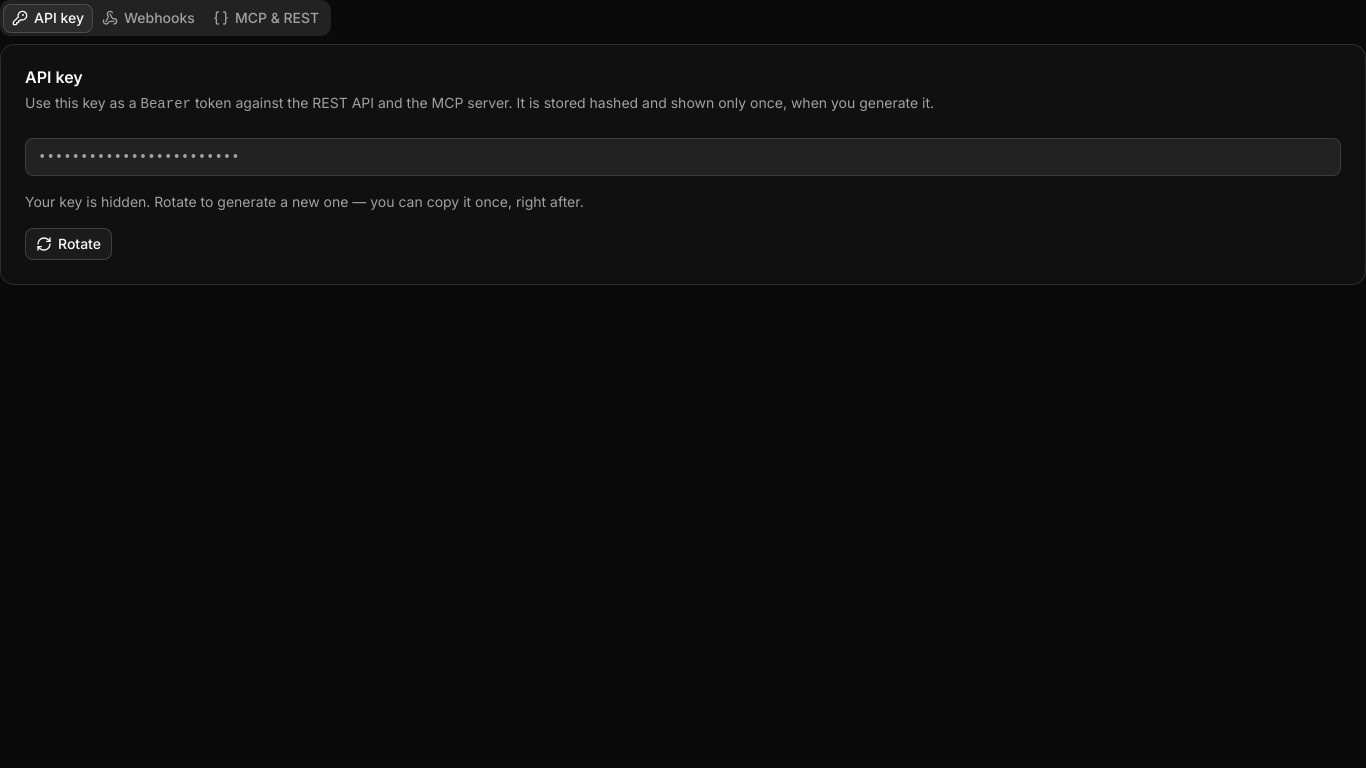
Scenario: Developer tabs › switches to the MCP & REST section on tab change
// Radix tabs activate on pointer-down, not a bare click.
Press the mouse on the tab "MCP & REST" at (266, 18), box 204,4 -> 328,32
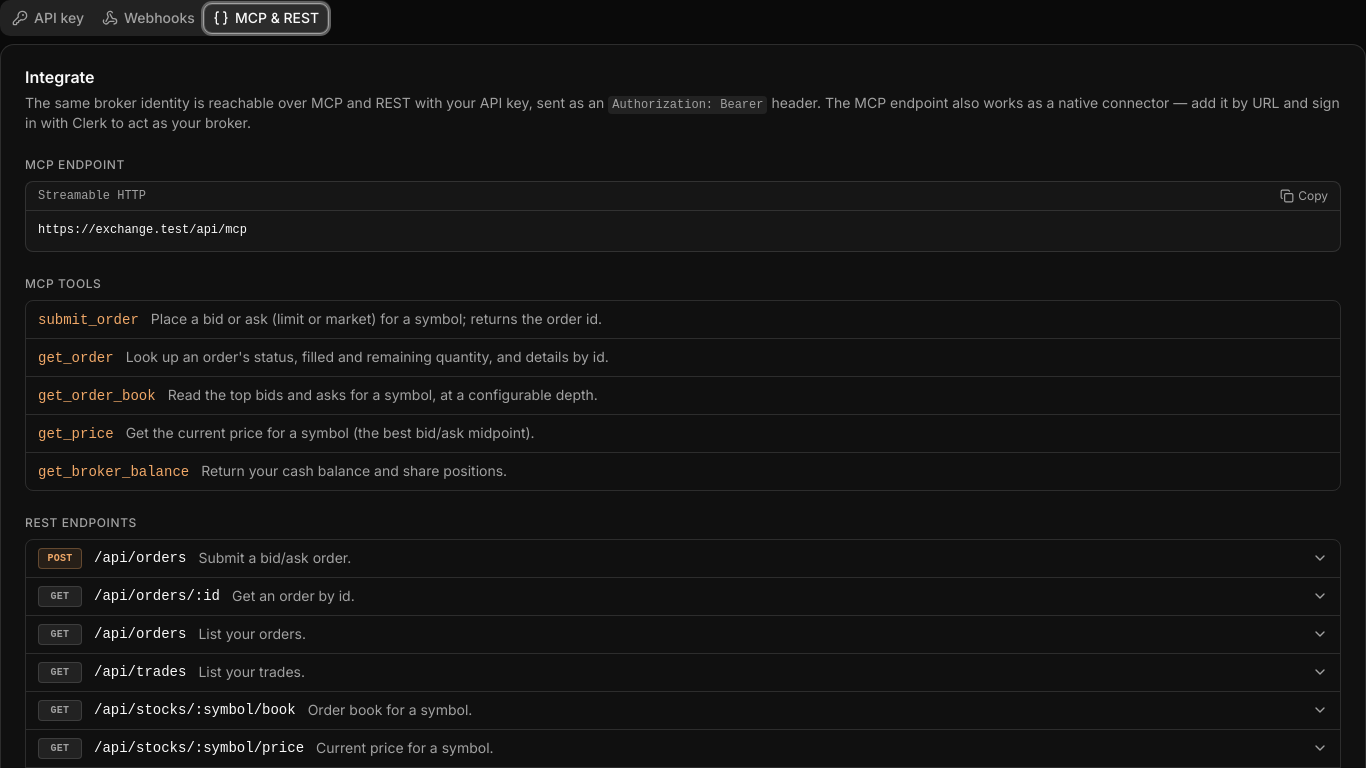
Now the text "Integrate" is shown, box 25,67 -> 94,87
